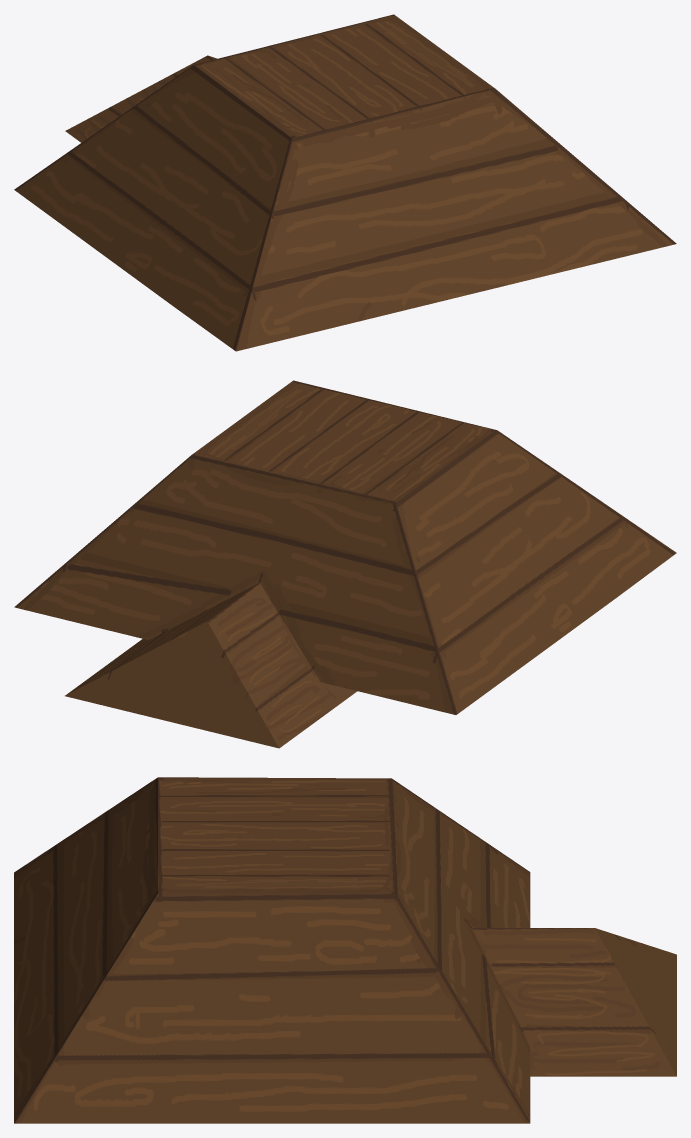
The model's file is Krov_3.fbx.
3 renders of one model, top to bottom at view 1: azimuth 30°, elevation 25°; view 2: azimuth 150°, elevation 25°; view 3: azimuth 270°, elevation 25°, orthographic. The views are drawn at different scales.
Parts seen in each view (by area): view 1: Krov_3; view 2: Krov_3; view 3: Krov_3.
Part boxes in pixels (left/top/right/bottom): Krov_3: left=14, top=14, right=676, bottom=351; Krov_3: left=14, top=380, right=676, bottom=748; Krov_3: left=14, top=777, right=676, bottom=1123.
Size of the model in its own units: 404 by 135 by 450.
1 material, 1 textured.
